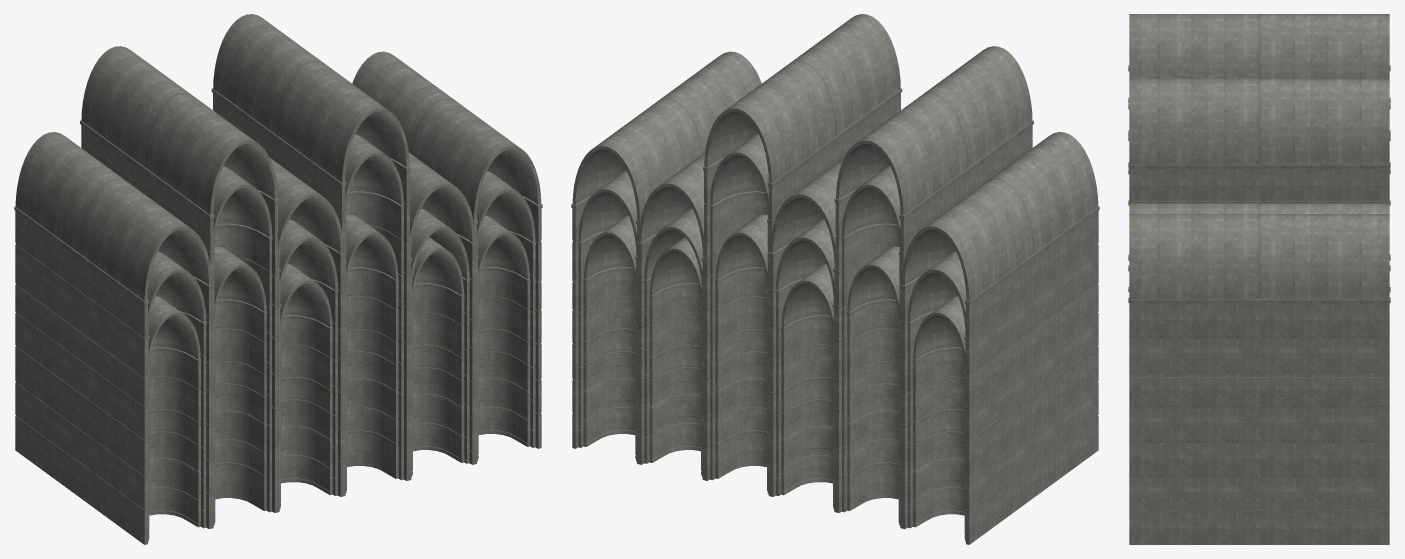
The model's file is brutalist_archs.fbx.
The picture shows the model from 3 angles, left to right: view 1: azimuth 30°, elevation 25°; view 2: azimuth 150°, elevation 25°; view 3: azimuth 270°, elevation 25°; orthographic projection.
Visible parts, largest first — view 1: Monument_D_Monument_D; view 2: Monument_D_Monument_D; view 3: Monument_D_Monument_D.
Part boxes in pixels (left/top/right/bottom): Monument_D_Monument_D: left=14, top=14, right=542, bottom=544; Monument_D_Monument_D: left=571, top=14, right=1099, bottom=544; Monument_D_Monument_D: left=1128, top=14, right=1390, bottom=544.
Bounding box in the file's own units: 2623 × 2388 × 1482.
